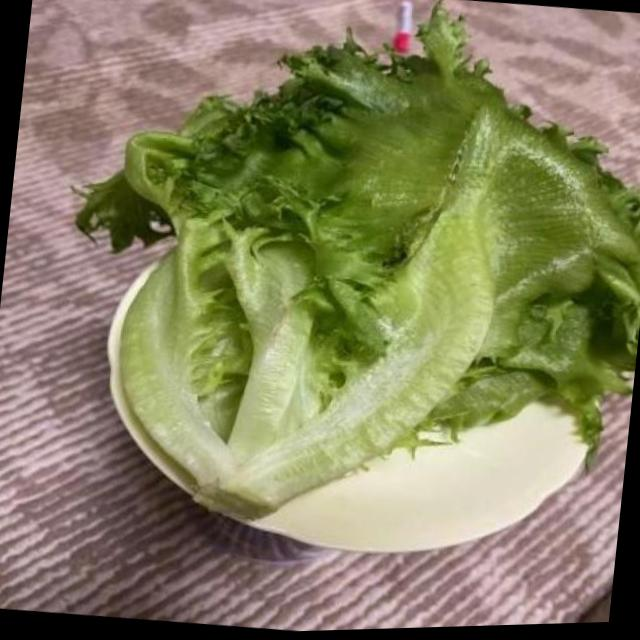Mature: (78, 3, 640, 550)
